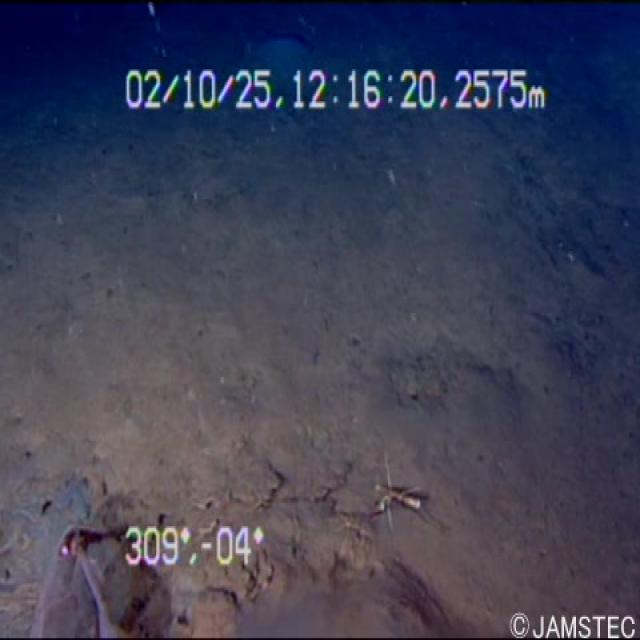plastic: (21, 498, 140, 638)
